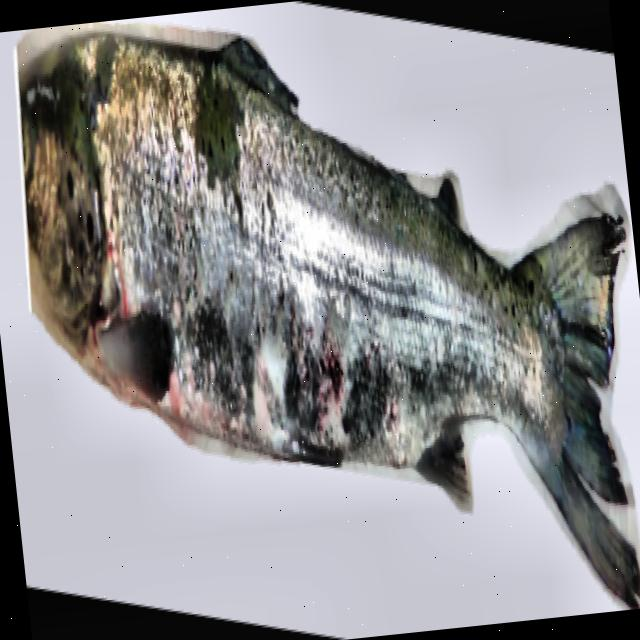mild_red: (90, 39, 563, 466)
